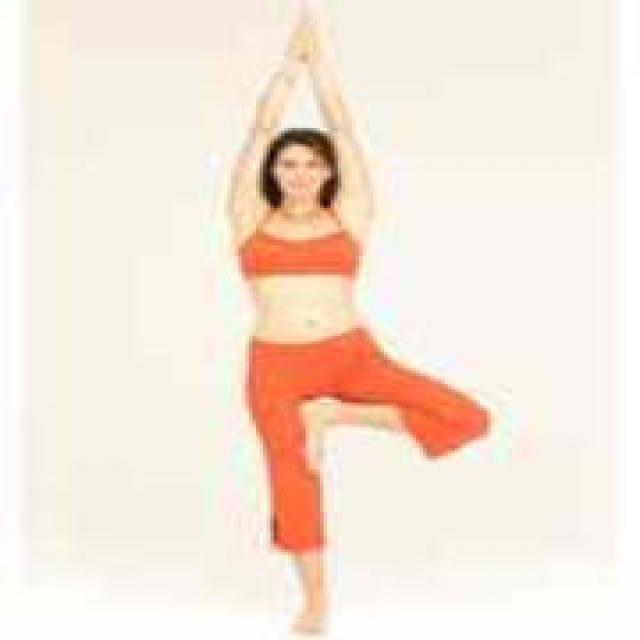yoga-pose tree: (172, 9, 510, 616)
